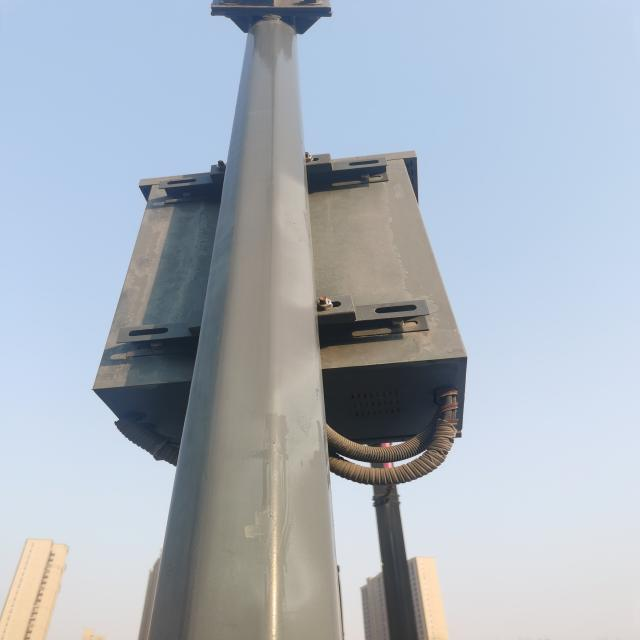bolt nut: (314, 295, 334, 311), (215, 162, 229, 172), (303, 152, 314, 162)
